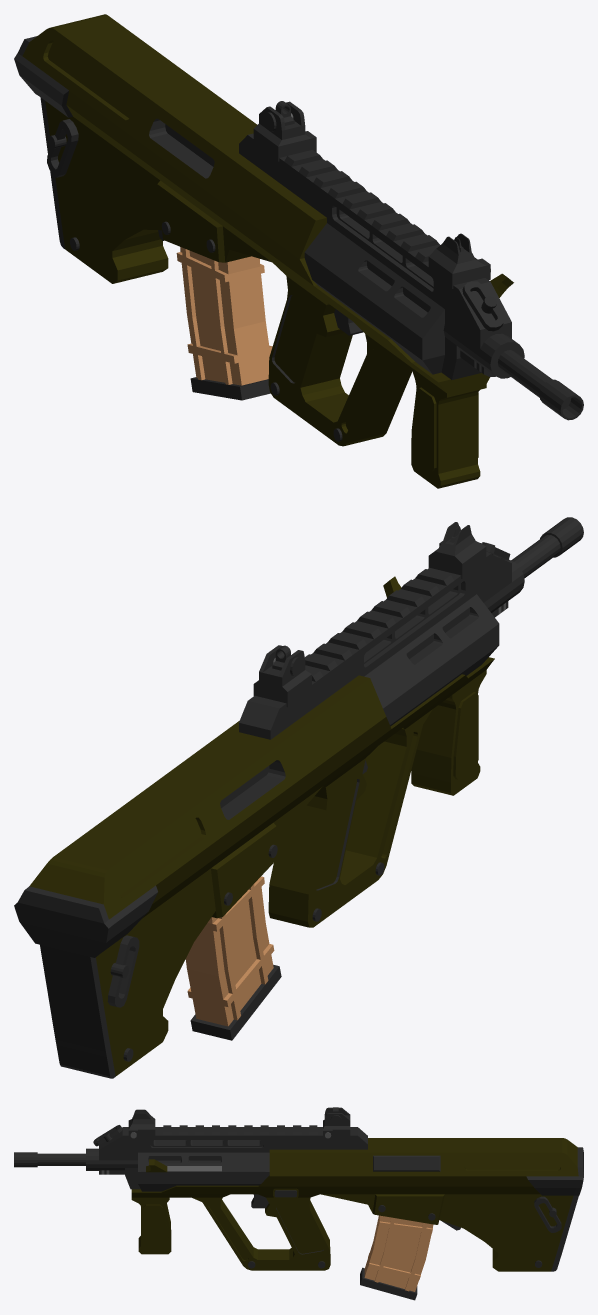
The model's file is aug_runtime_socketed.glb.
3 views of the same model, one above another, from view 1: azimuth 30°, elevation 25°; view 2: azimuth 150°, elevation 25°; view 3: azimuth 270°, elevation 25° (orthographic). The views are drawn at different scales.
Parts seen in each view (by area): view 1: AUG_Runtime; view 2: AUG_Runtime; view 3: AUG_Runtime.
Boxes of the visible parts, x1=… form: AUG_Runtime: x1=14, y1=14, x2=583, y2=488; AUG_Runtime: x1=14, y1=517, x2=583, y2=1078; AUG_Runtime: x1=14, y1=1107, x2=583, y2=1300.
Bounding box in the file's own units: 0.0983 × 0.2867 × 0.79.
1 material, 1 textured.
